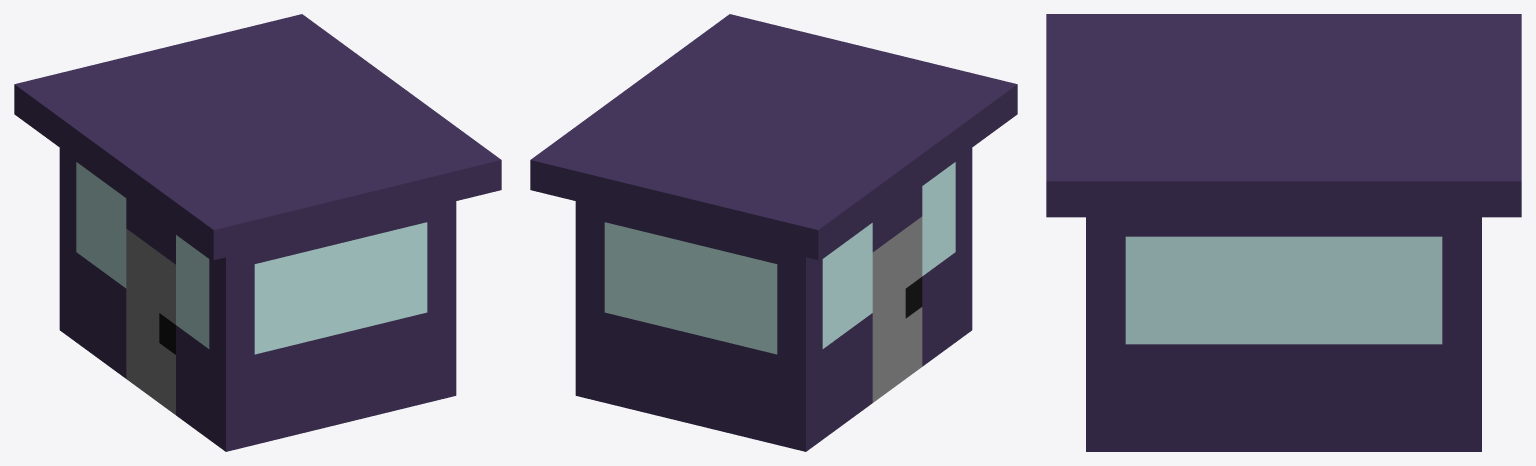
The model's file is security.dae.
3 renders of one model, left to right at view 1: azimuth 30°, elevation 25°; view 2: azimuth 150°, elevation 25°; view 3: azimuth 270°, elevation 25°, orthographic. The views are drawn at different scales.
Parts seen in each view (by area): view 1: PlaneCOL; view 2: PlaneCOL; view 3: PlaneCOL.
Boxes of the visible parts, left/top/right/bottom form: PlaneCOL: left=14, top=14, right=501, bottom=451; PlaneCOL: left=530, top=14, right=1017, bottom=451; PlaneCOL: left=1046, top=14, right=1521, bottom=451.
Size of the model in its own units: 1 by 1.2 by 0.8.
